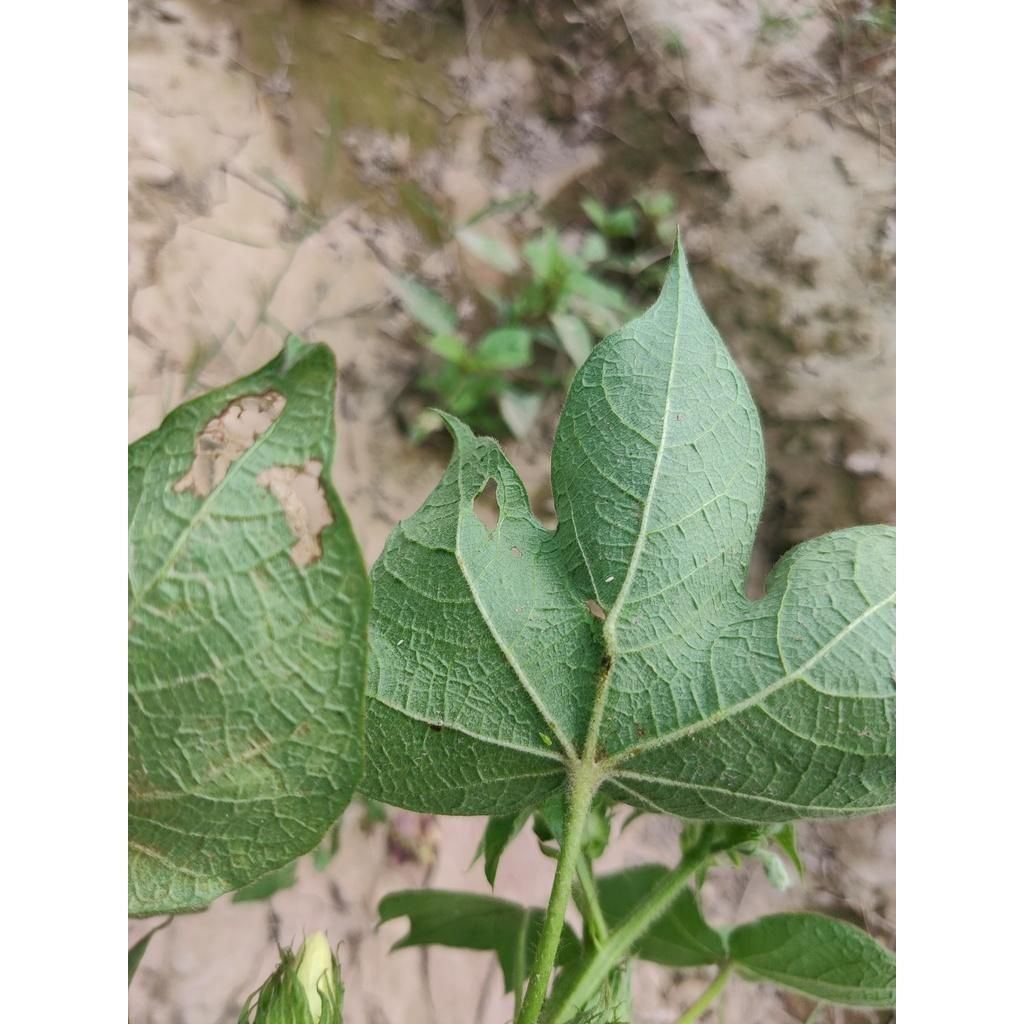adult: (604, 576, 614, 584), (396, 640, 404, 645)
